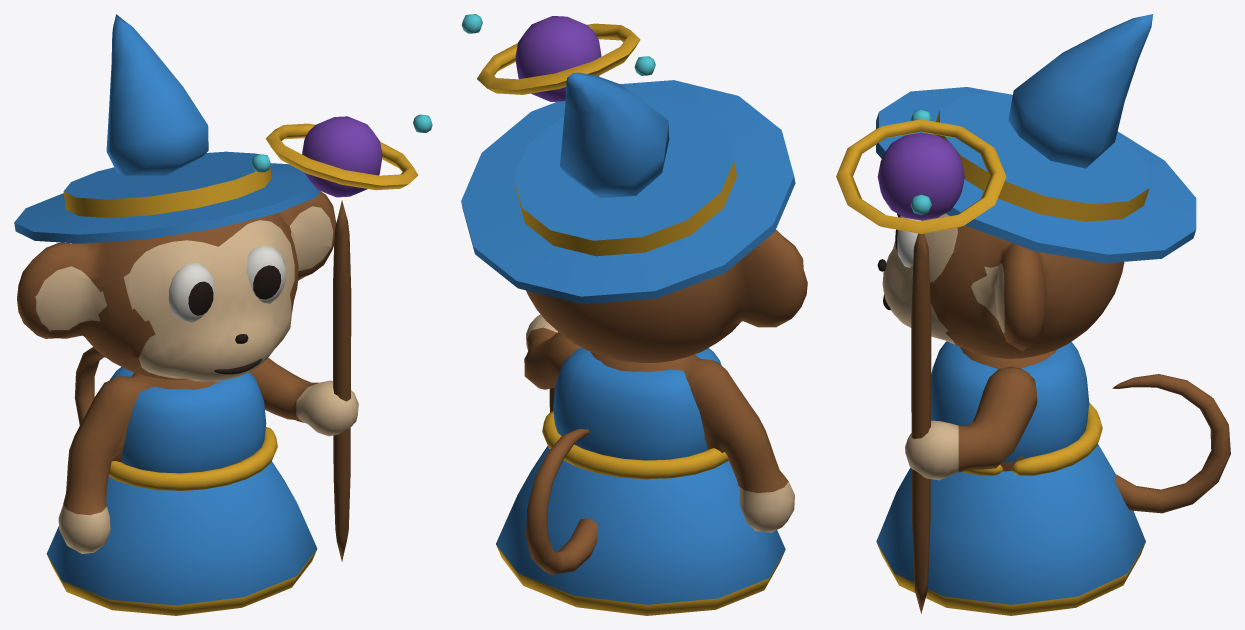
3 renders of one model, left to right at view 1: azimuth 30°, elevation 25°; view 2: azimuth 150°, elevation 25°; view 3: azimuth 270°, elevation 25°, orthographic. The views are drawn at different scales.
Parts seen in each view (by area): view 1: mago_2_cabeca, mago_0_corpo, mago_3_braco, mago_1_cauda; view 2: mago_2_cabeca, mago_0_corpo, mago_3_braco, mago_1_cauda; view 3: mago_2_cabeca, mago_0_corpo, mago_3_braco, mago_1_cauda.
Boxes of the visible parts, box(x1,y1,x2,y2) form: mago_2_cabeca: box(14, 14, 336, 381); mago_0_corpo: box(46, 367, 317, 615); mago_3_braco: box(249, 114, 432, 561); mago_1_cauda: box(74, 347, 105, 425); mago_2_cabeca: box(461, 72, 807, 362); mago_0_corpo: box(496, 348, 794, 615); mago_3_braco: box(461, 14, 655, 411); mago_1_cauda: box(526, 429, 597, 574); mago_2_cabeca: box(876, 14, 1196, 358); mago_0_corpo: box(876, 341, 1145, 615); mago_3_braco: box(836, 109, 1037, 613); mago_1_cauda: box(1112, 374, 1230, 513).
Bounding box in the file's own units: 0.9131 × 1.24 × 0.7906.
